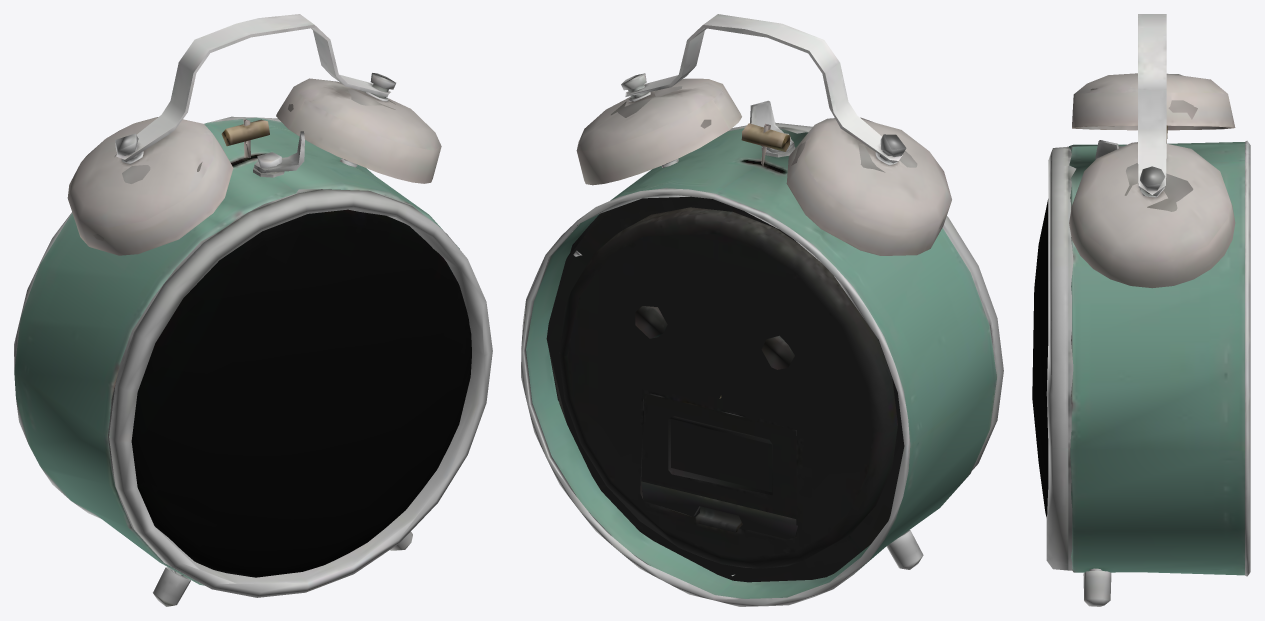
Rendered from alarm_clock_01.glb.
3 renders of one model, left to right at view 1: azimuth 30°, elevation 25°; view 2: azimuth 150°, elevation 25°; view 3: azimuth 270°, elevation 25°, orthographic. The views are drawn at different scales.
Visible parts, largest first — view 1: alarm_clock_01; view 2: alarm_clock_01; view 3: alarm_clock_01.
Part boxes in pixels (x1,y1,x2,y2): alarm_clock_01: (14, 14, 492, 606); alarm_clock_01: (521, 14, 1003, 606); alarm_clock_01: (1032, 14, 1250, 606).
Bounding box in the file's own units: 0.1312 × 0.1738 × 0.0659.
Materials: 2 (2 with a texture image).
